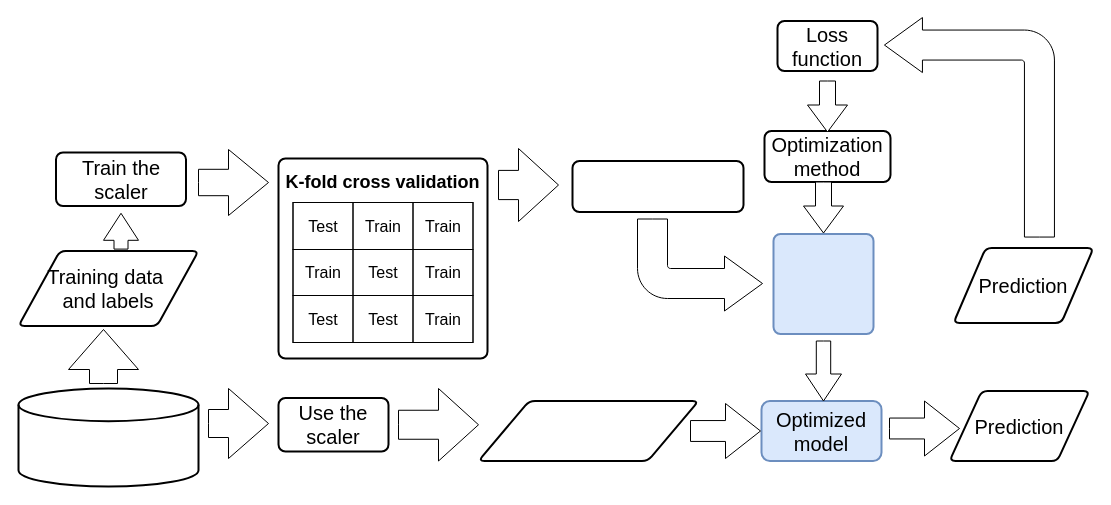
This 1111x505 diagram has some shape labels left out. The centre of each missing label's shape, as x and y in pixels:
Dataset: (108,437)
Hyperparameter tunning: (657,186)
Model: (823,283)
Validation data and labels: (588,431)
